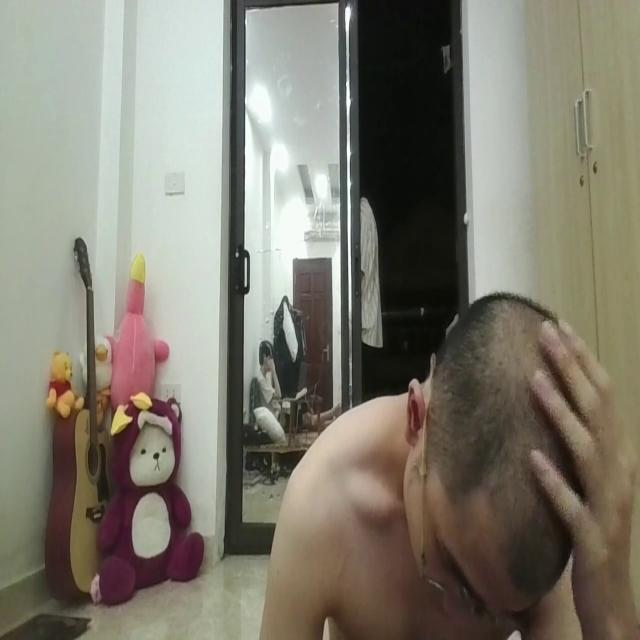extra_person: (351, 167, 395, 384), (252, 301, 302, 452)
student: (254, 277, 620, 640)
